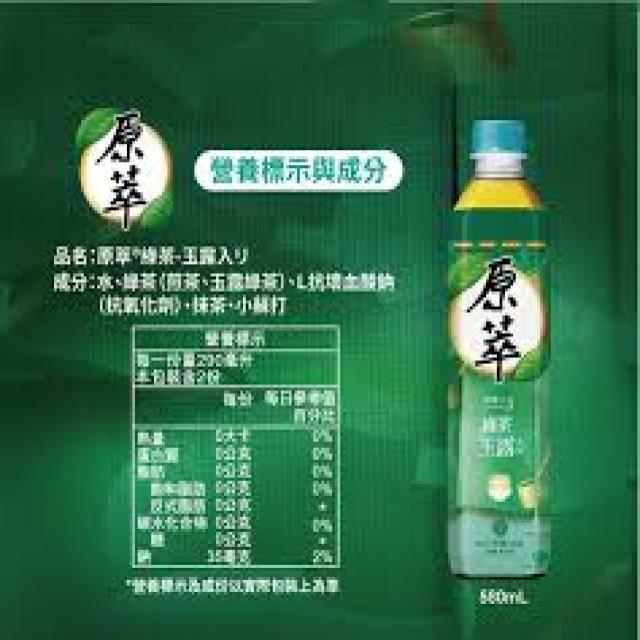YuanTsui_GreenTea: (431, 112, 567, 601)
